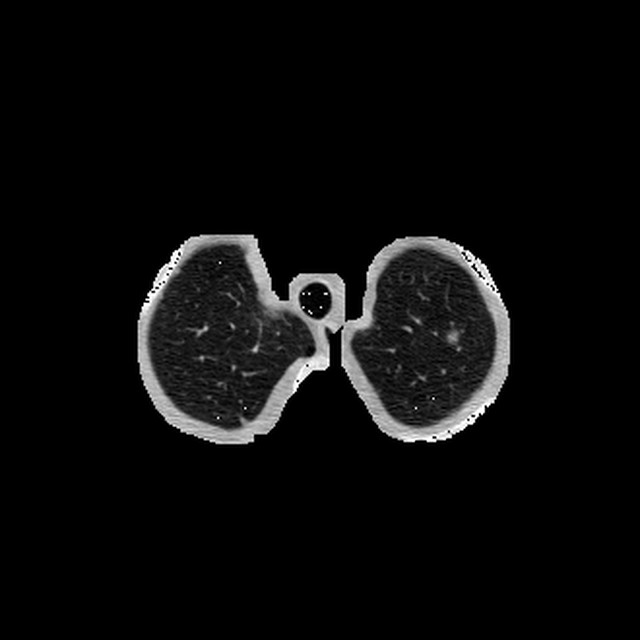PN: (446, 330, 458, 341)
